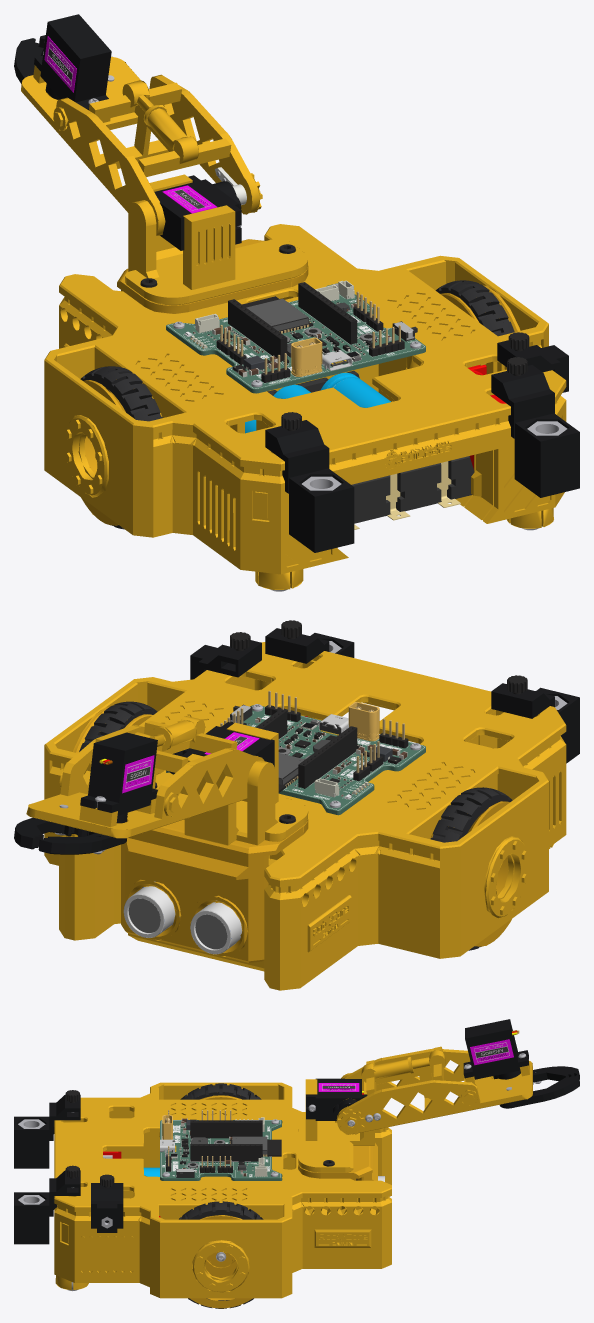
Rendered from robocore-v2.glb.
3 renders of one model, top to bottom at view 1: azimuth 30°, elevation 25°; view 2: azimuth 150°, elevation 25°; view 3: azimuth 270°, elevation 25°, orthographic. The views are drawn at different scales.
Visible parts, largest first — view 1: RoboCoreV2; view 2: RoboCoreV2; view 3: RoboCoreV2.
Boxes of the visible parts, box(x1,y1,x2,y2) form: RoboCoreV2: box(14, 14, 579, 591); RoboCoreV2: box(14, 620, 579, 990); RoboCoreV2: box(14, 1019, 579, 1308).
Size of the model in its own units: 0.1672 by 0.117 by 0.2781.
